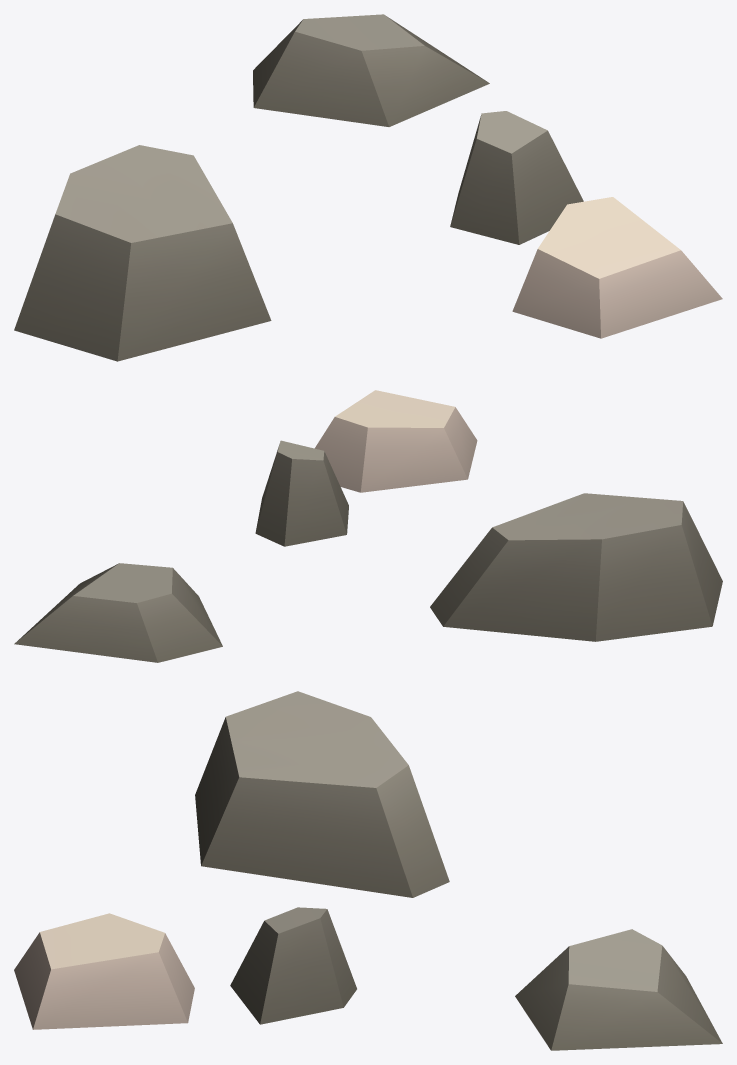
File: Rock_Cluster_1A.fbx
The picture shows the model from 3 angles, top to bottom: view 1: azimuth 30°, elevation 25°; view 2: azimuth 150°, elevation 25°; view 3: azimuth 270°, elevation 25°; orthographic projection. The views are drawn at different scales.
Parts seen in each view (by area): view 1: Rock_Cluster_1A; view 2: Rock_Cluster_1A; view 3: Rock_Cluster_1A.
Part boxes in pixels (x1=…): Rock_Cluster_1A: x1=14, y1=14, x2=722, y2=361; Rock_Cluster_1A: x1=14, y1=390, x2=722, y2=662; Rock_Cluster_1A: x1=14, y1=691, x2=722, y2=1050.
Bounding box in the file's own units: 241 × 40.99 × 261.
